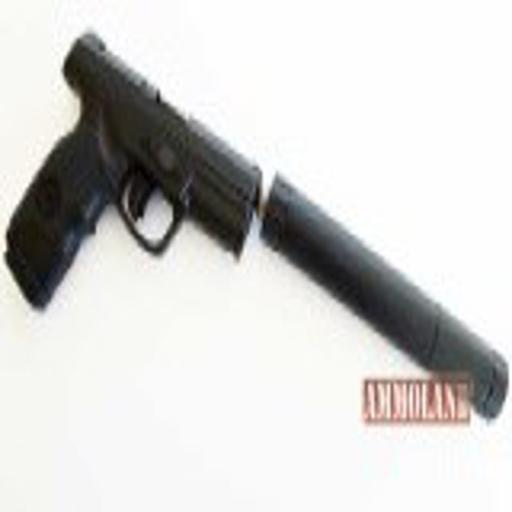Handgun: (2, 28, 511, 421)
